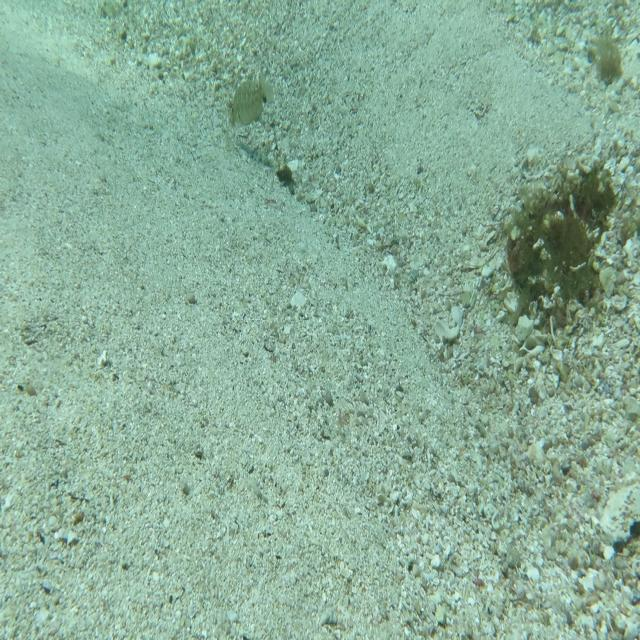AM: (228, 74, 276, 126)
core_nest: (576, 173, 611, 209)
nest: (507, 147, 615, 336)
nest_material: (227, 117, 236, 135)
vegetation: (591, 27, 627, 91), (277, 162, 294, 188)
